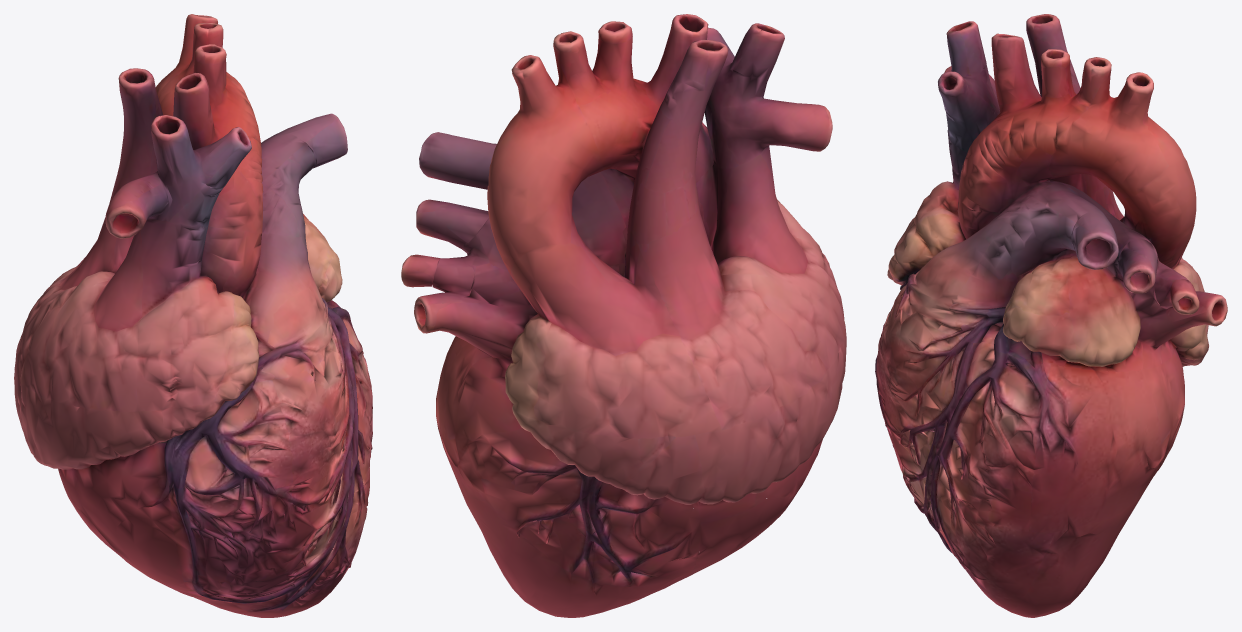
The model's file is heart-lod1.glb.
3 renders of one model, left to right at view 1: azimuth 30°, elevation 25°; view 2: azimuth 150°, elevation 25°; view 3: azimuth 270°, elevation 25°, orthographic. The views are drawn at different scales.
Parts seen in each view (by area): view 1: tripo_node_9c16954f-d29a-4a4b-baf4-ba02eda23201; view 2: tripo_node_9c16954f-d29a-4a4b-baf4-ba02eda23201; view 3: tripo_node_9c16954f-d29a-4a4b-baf4-ba02eda23201.
Part boxes in pixels (<box>): tripo_node_9c16954f-d29a-4a4b-baf4-ba02eda23201: <box>14,14,372,617</box>; tripo_node_9c16954f-d29a-4a4b-baf4-ba02eda23201: <box>401,14,846,617</box>; tripo_node_9c16954f-d29a-4a4b-baf4-ba02eda23201: <box>875,14,1227,617</box>.
Size of the model in its own units: 0.5966 by 0.9803 by 0.5843.
Materials: 1 (1 with a texture image).
